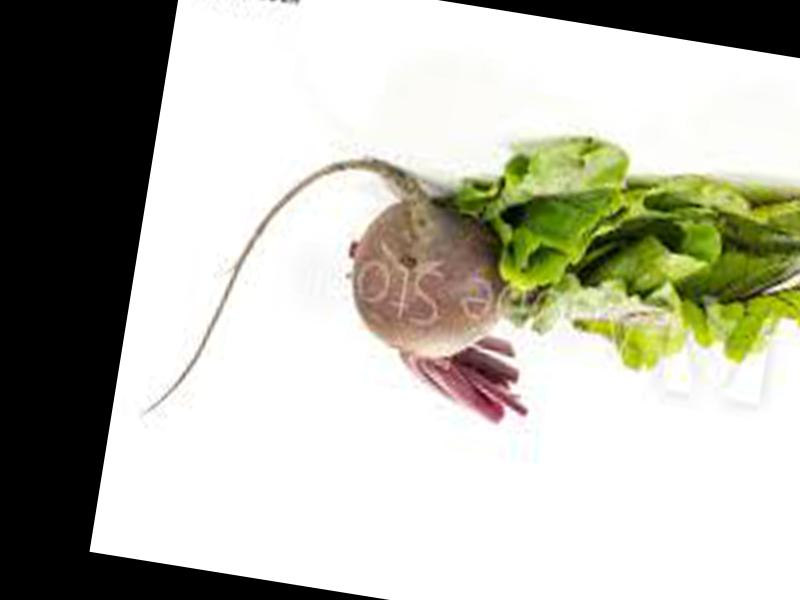Beet: (137, 128, 568, 477)
